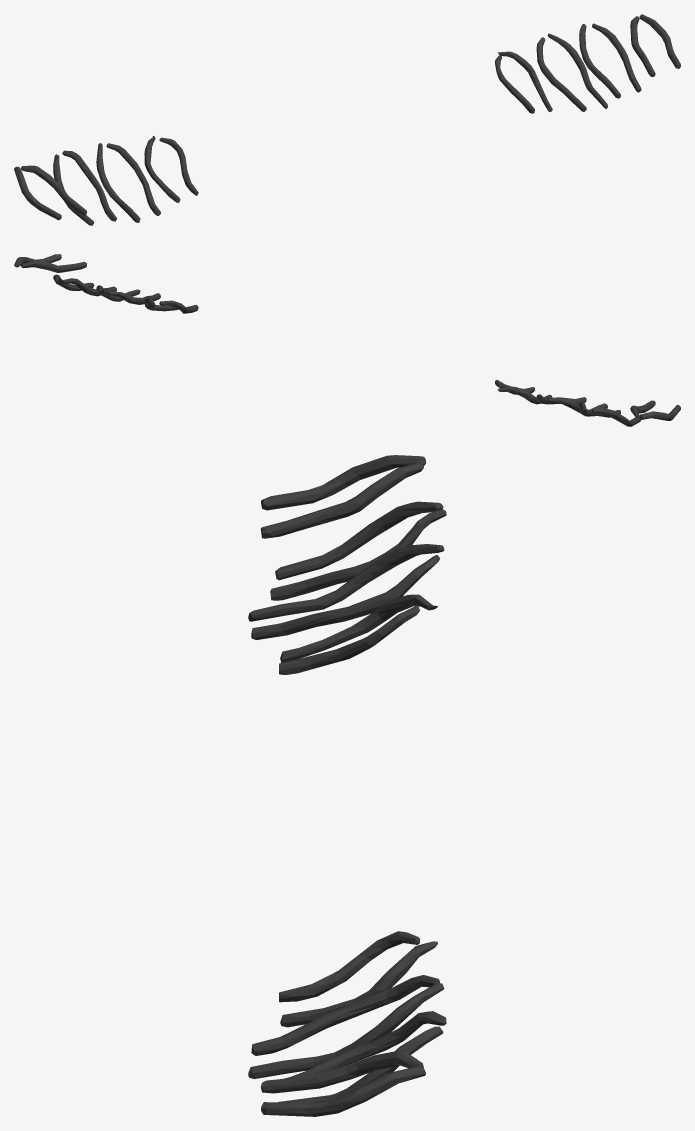
File: tend_interosseus.glb
3 renders of one model, top to bottom at view 1: azimuth 30°, elevation 25°; view 2: azimuth 150°, elevation 25°; view 3: azimuth 270°, elevation 25°, orthographic. The views are drawn at different scales.
Parts seen in each view (by area): view 1: tend_interosseus; view 2: tend_interosseus; view 3: tend_interosseus.
Boxes of the visible parts, x1,y1,x2,y2 form: tend_interosseus: [14, 14, 680, 225]; tend_interosseus: [14, 254, 680, 426]; tend_interosseus: [248, 455, 446, 1116].
Bounding box in the file's own units: 0.0045 × 0.000301 × 0.000599.
Materials: 1 (1 with a texture image).
